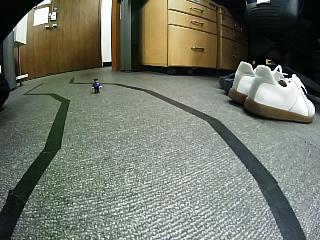person: (91, 78, 102, 94)
